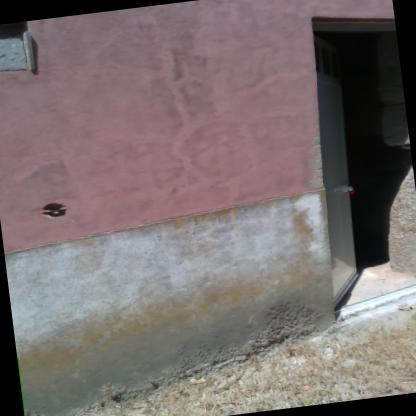semi: (292, 0, 415, 326)
